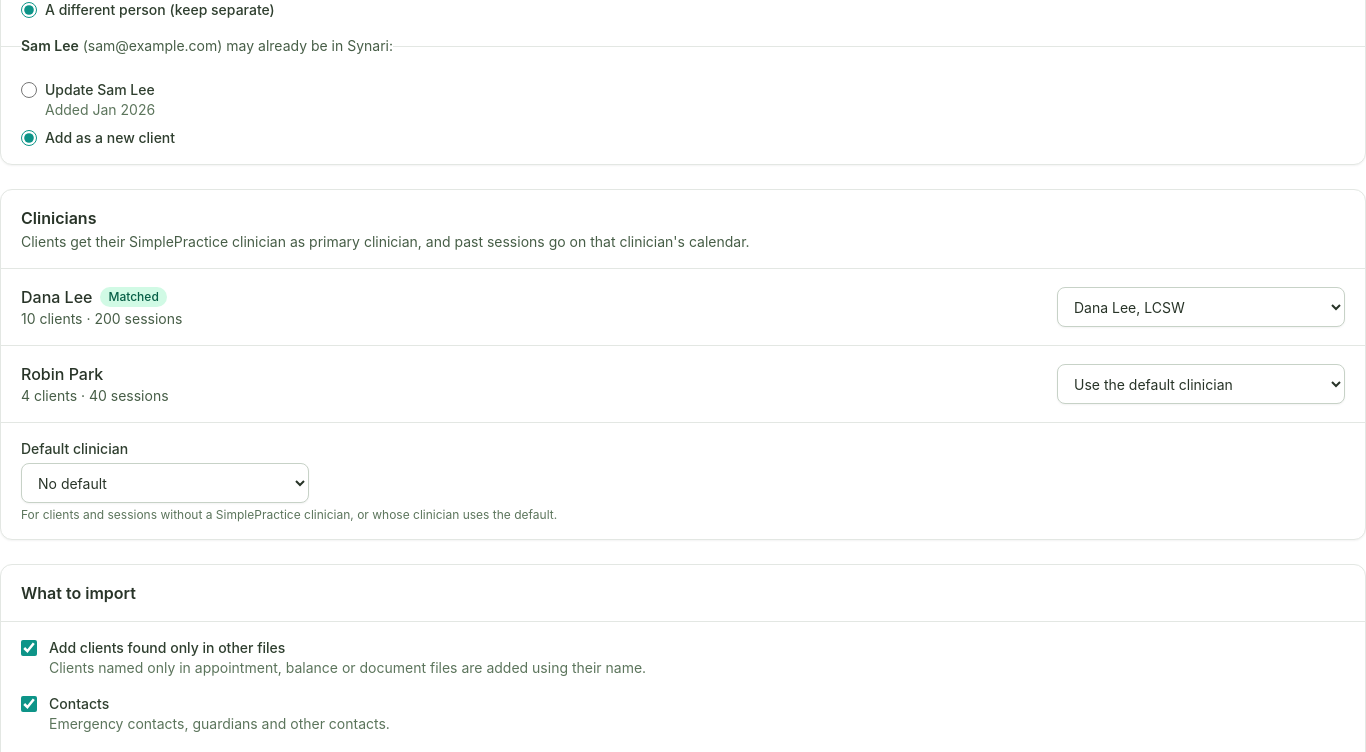
it: review step › invites a new clinician only for people who manage the team
The width and height of the screenshot is (1366, 752).
(page scrolled)
Select "Invite a new clinician…" in the dropdown named "Synari clinician for Robin Park". click: (1201, 384)
box: [1057,364,1345,404]
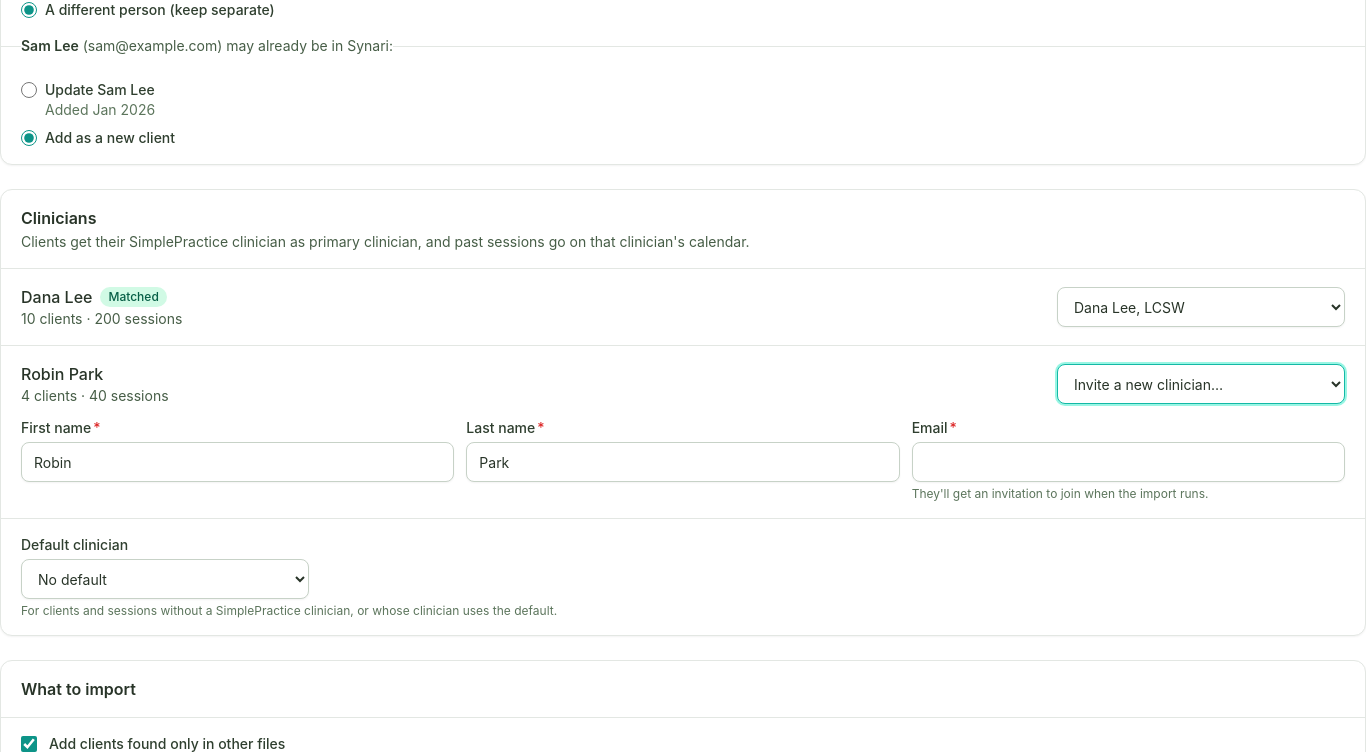
Now the field labelled "First name*" holds "Robin", box [21,442,454,482]
Now the field labelled "Last name*" holds "Park", box [466,442,900,482]
